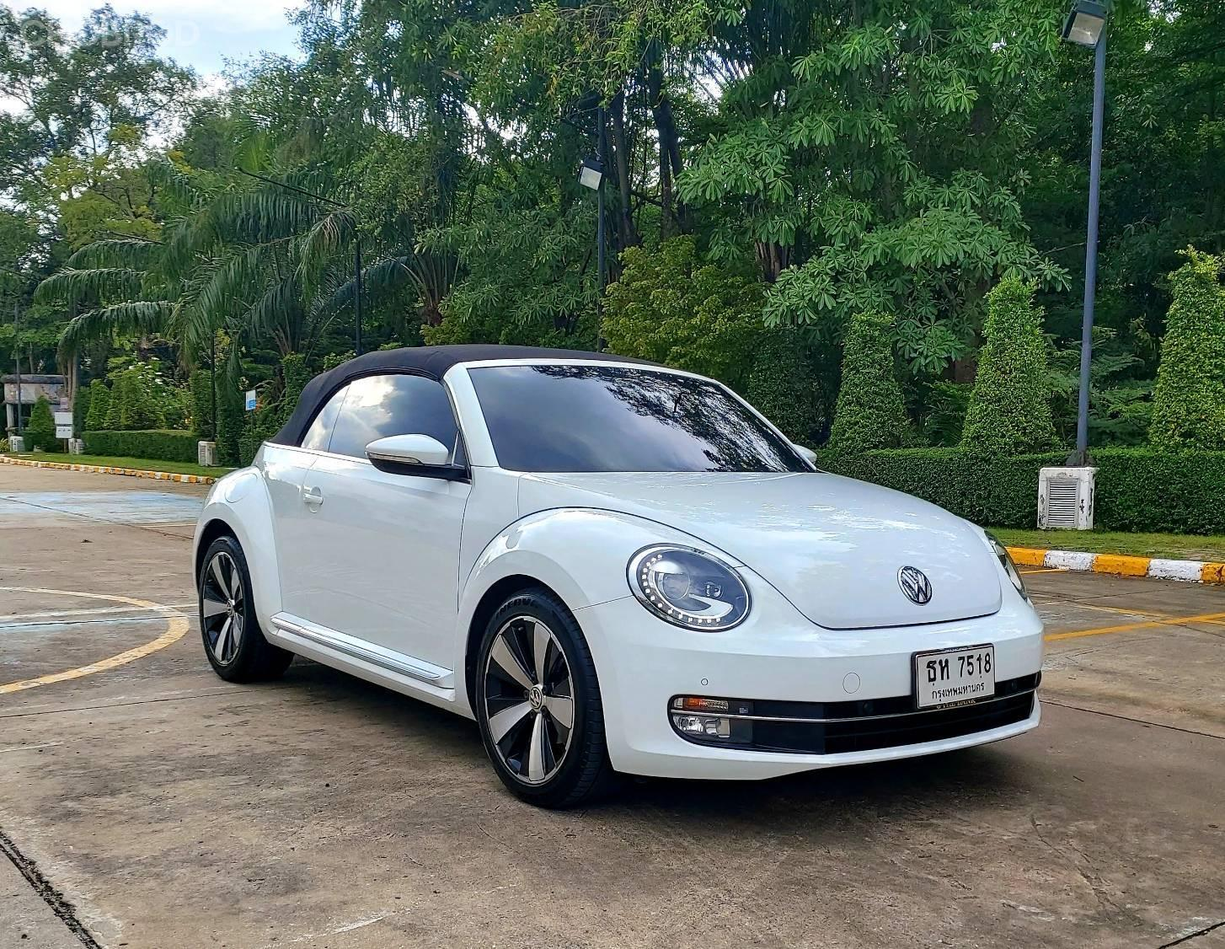license-plate: (908, 642, 1000, 712)
